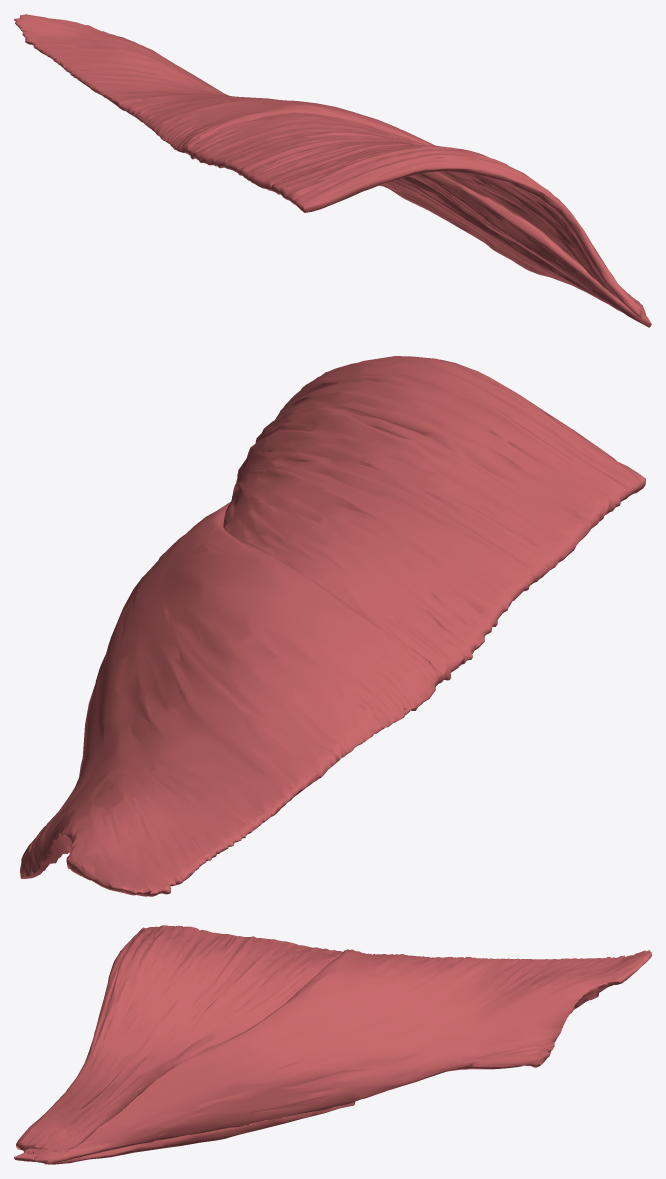
3 renders of one model, top to bottom at view 1: azimuth 30°, elevation 25°; view 2: azimuth 150°, elevation 25°; view 3: azimuth 270°, elevation 25°, orthographic. The views are drawn at different scales.
Visible parts, largest first — view 1: 左侧背阔肌; view 2: 左侧背阔肌; view 3: 左侧背阔肌.
Boxes of the visible parts, box(x1,y1,x2,y2) form: 左侧背阔肌: box(14, 14, 651, 327); 左侧背阔肌: box(20, 356, 645, 896); 左侧背阔肌: box(14, 925, 651, 1164).
Size of the model in its own units: 0.2754 by 0.1498 by 0.6047.
